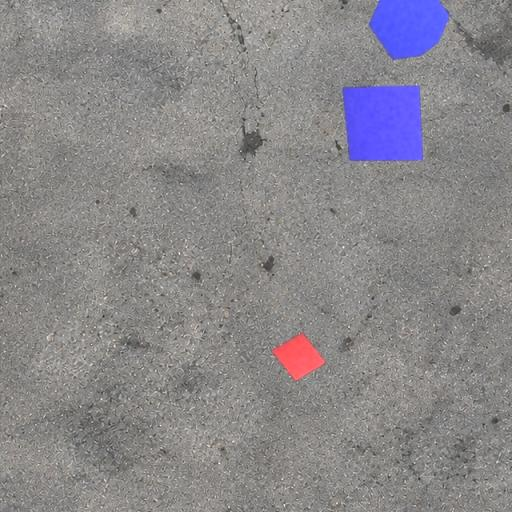BLUE_SQUARE: (342, 84, 424, 162)
RED_SQUARE: (270, 332, 328, 382)
